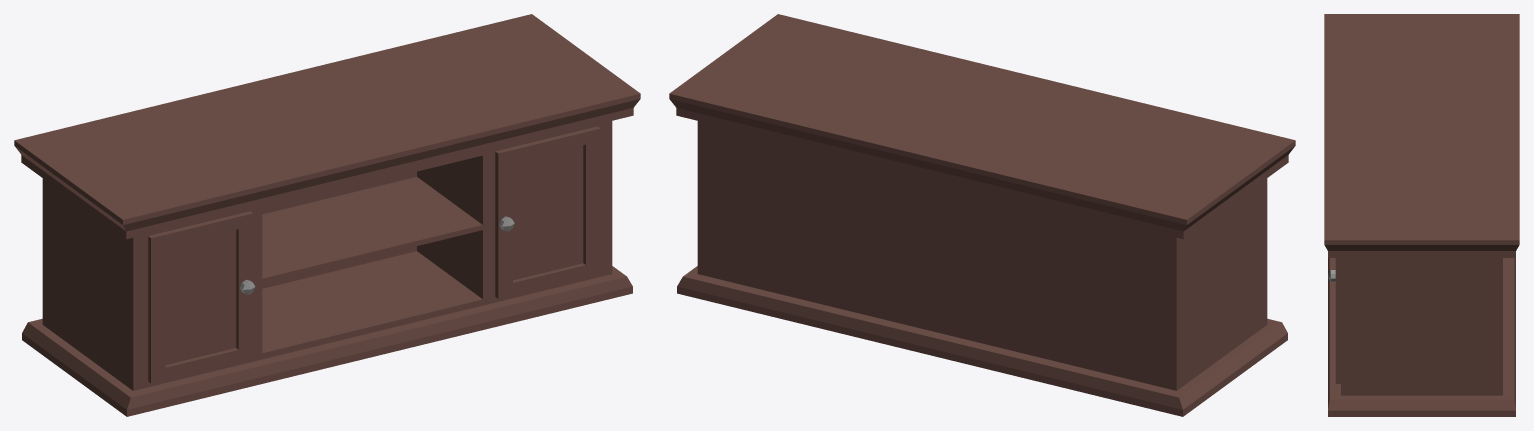
The model's file is Lounge TV Stand.glb.
3 views of the same model, side by side, from view 1: azimuth 30°, elevation 25°; view 2: azimuth 150°, elevation 25°; view 3: azimuth 270°, elevation 25° (orthographic). The views are drawn at different scales.
Visible parts, largest first — view 1: TV Stand; view 2: TV Stand; view 3: TV Stand.
Boxes of the visible parts, bbox=[...] form: TV Stand: bbox=[14, 14, 640, 416]; TV Stand: bbox=[669, 14, 1295, 416]; TV Stand: bbox=[1324, 14, 1519, 416].
Size of the model in its own units: 2.43 by 0.895 by 0.8831.
Materials: 1 (1 with a texture image).
